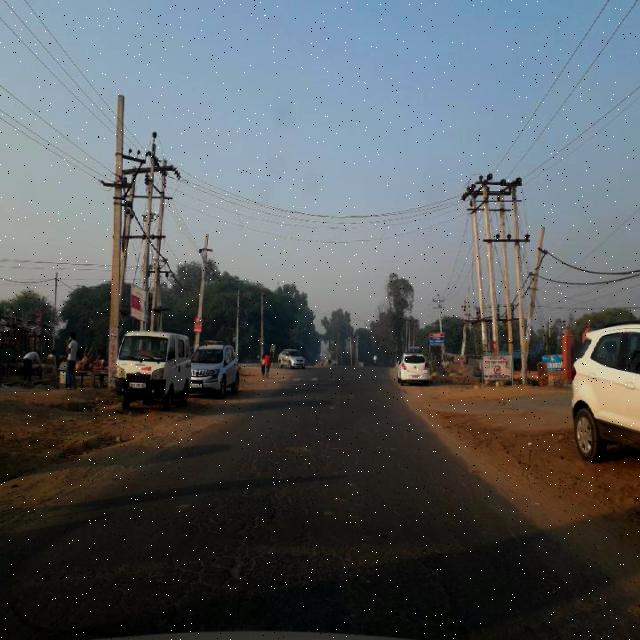D40: (18, 480, 461, 620)
